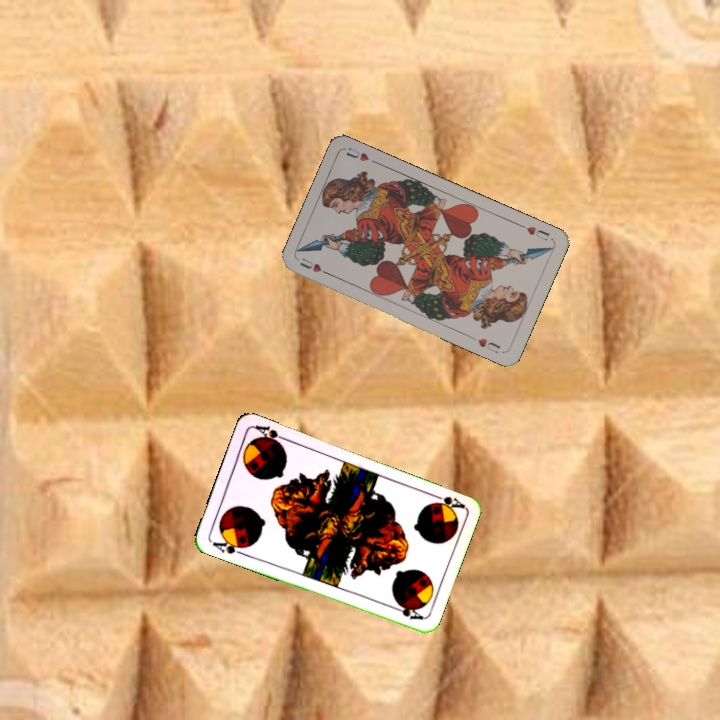HU: (296, 254, 333, 278), (516, 220, 552, 243)
SA: (208, 534, 249, 558), (427, 489, 466, 513)
